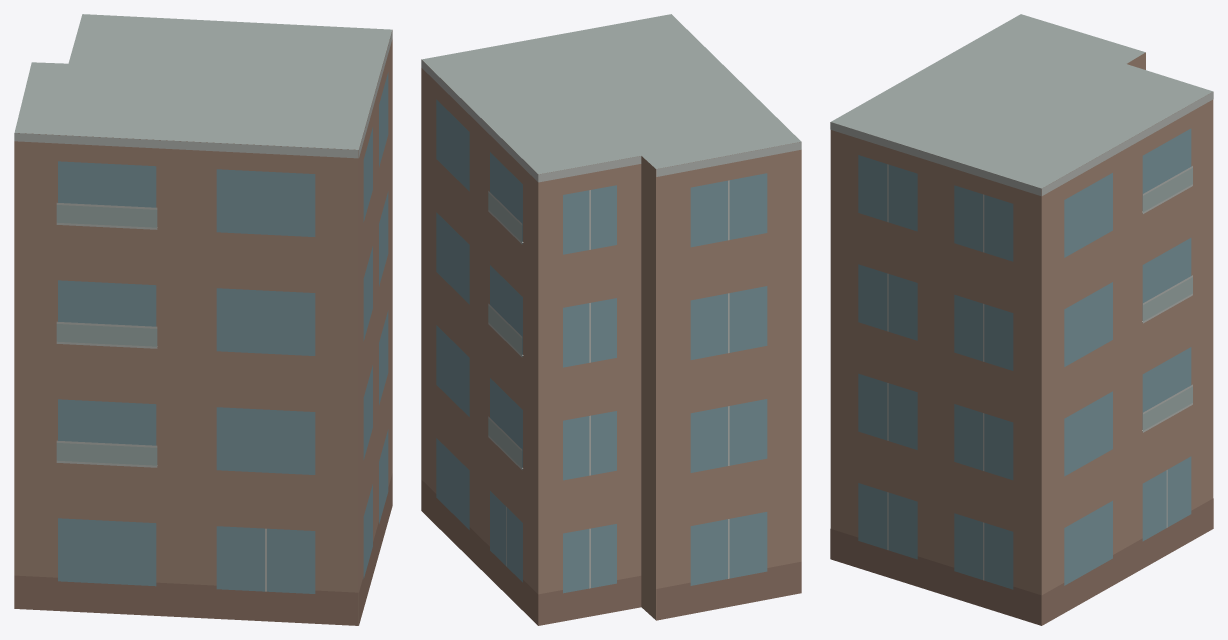
File: survey-upis-33020878.glb
3 renders of one model, left to right at view 1: azimuth 30°, elevation 25°; view 2: azimuth 150°, elevation 25°; view 3: azimuth 270°, elevation 25°, orthographic. The views are drawn at different scales.
Visible parts, largest first — view 1: survey-upis-33020878.tmp; view 2: survey-upis-33020878.tmp; view 3: survey-upis-33020878.tmp.
Boxes of the visible parts, left/top/right/bottom form: survey-upis-33020878.tmp: left=14, top=14, right=392, bottom=625; survey-upis-33020878.tmp: left=421, top=14, right=801, bottom=625; survey-upis-33020878.tmp: left=830, top=14, right=1213, bottom=625.
Bounding box in the file's own units: 11.74 × 13.7 × 10.88.
